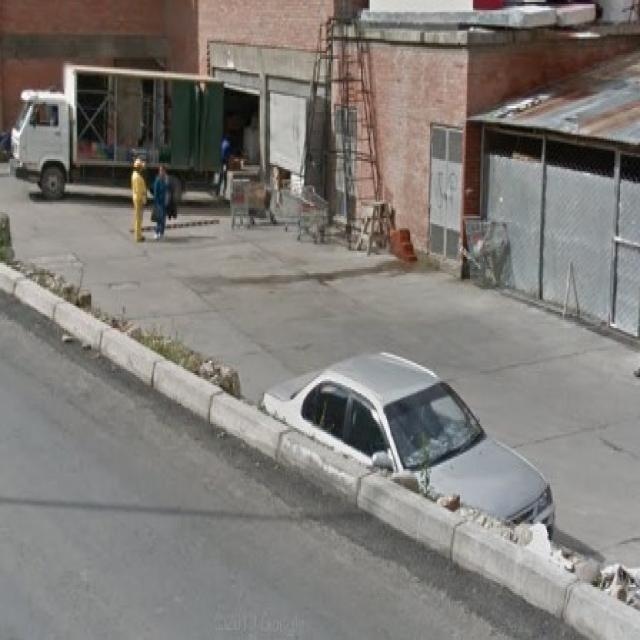Car: (270, 346, 560, 534)
